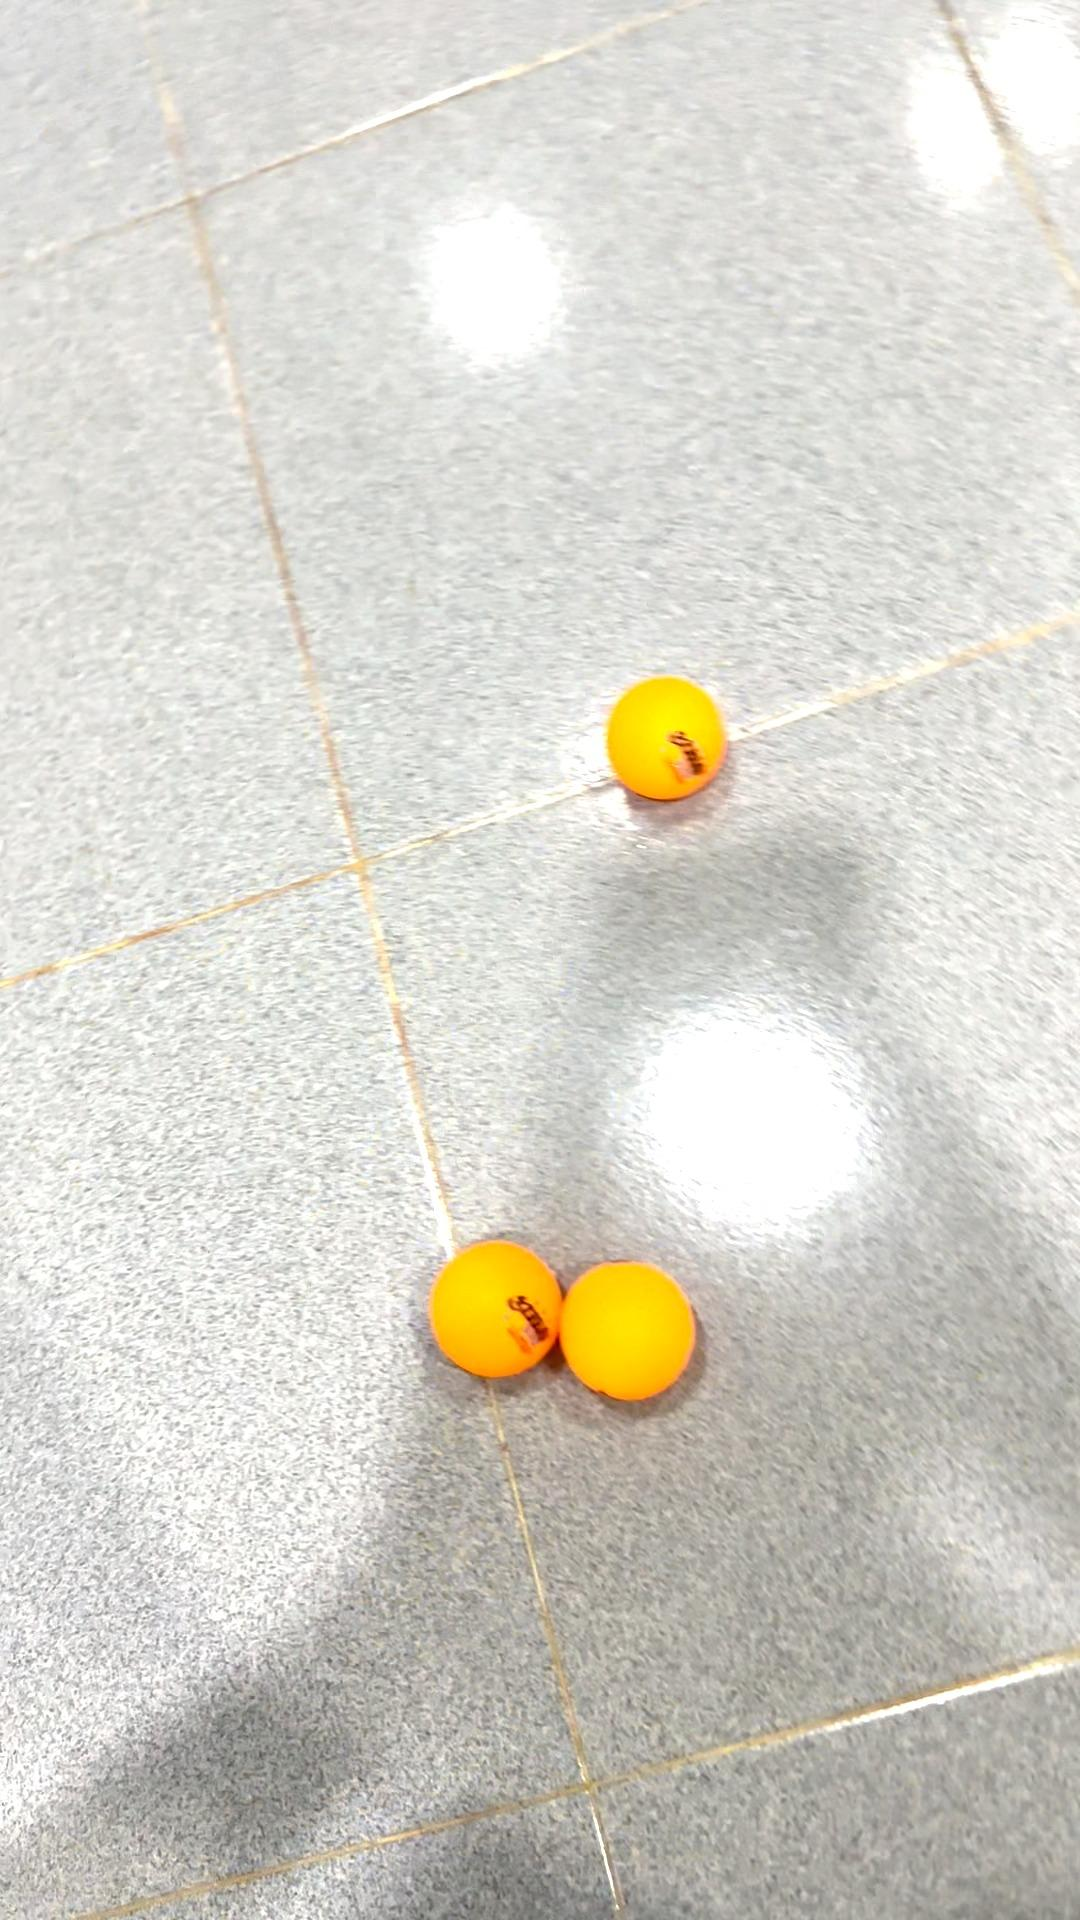oball: (558, 1249, 721, 1418), (425, 1225, 562, 1383), (608, 665, 735, 815)
